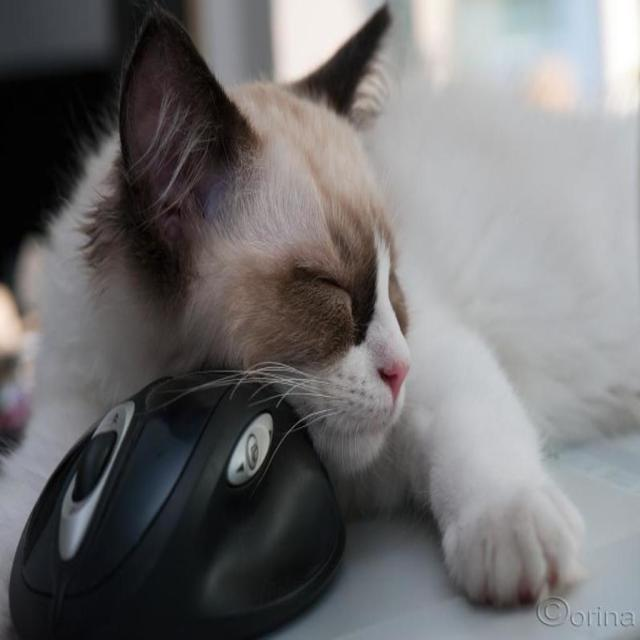Computer mouse: (11, 357, 352, 639)
